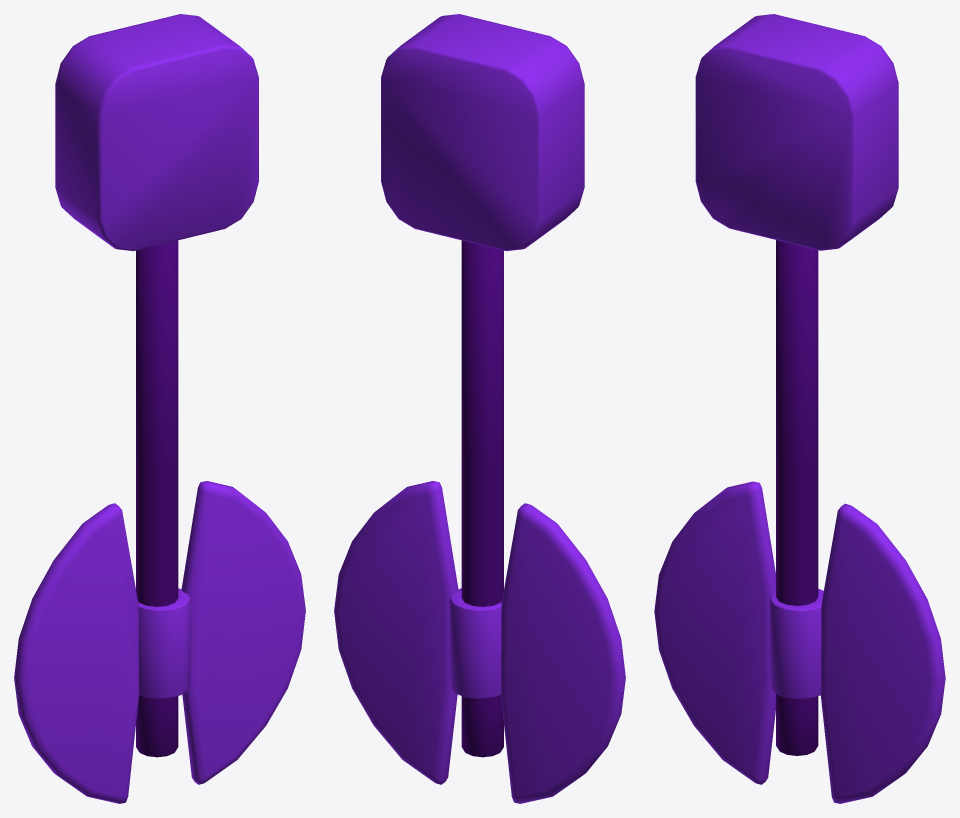
Rendered from wing_violet.fbx.
The picture shows the model from 3 angles, left to right: view 1: azimuth 30°, elevation 25°; view 2: azimuth 150°, elevation 25°; view 3: azimuth 330°, elevation 25°; orthographic projection.
Parts seen in each view (by area): view 1: wing_violet_serve, wing_violet_main; view 2: wing_violet_serve, wing_violet_main; view 3: wing_violet_serve, wing_violet_main.
Boxes of the visible parts, left/top/right/bottom form: wing_violet_serve: left=14, top=240, right=305, bottom=803; wing_violet_main: left=55, top=14, right=258, bottom=251; wing_violet_serve: left=334, top=240, right=625, bottom=803; wing_violet_main: left=381, top=14, right=584, bottom=251; wing_violet_serve: left=654, top=240, right=945, bottom=803; wing_violet_main: left=695, top=14, right=898, bottom=250.
Bounding box in the file's own units: 0.3099 × 0.7741 × 0.0861.
